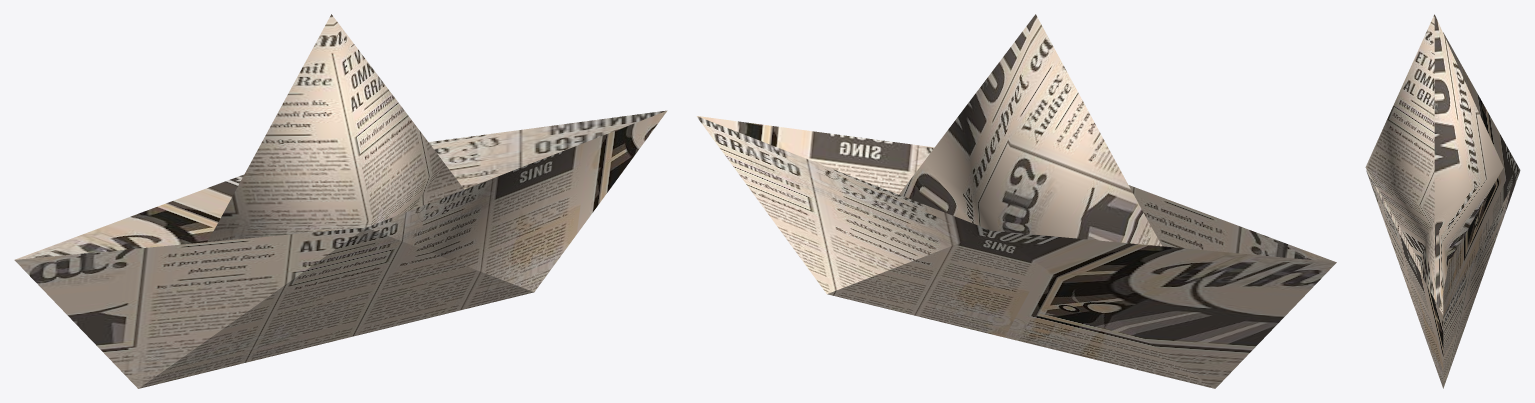
File: barco_papel.fbx
The picture shows the model from 3 angles, left to right: view 1: azimuth 30°, elevation 25°; view 2: azimuth 150°, elevation 25°; view 3: azimuth 270°, elevation 25°; orthographic projection. The views are drawn at different scales.
Parts seen in each view (by area): view 1: Plane002, Barco_Papel; view 2: Plane002, Barco_Papel; view 3: Barco_Papel, Plane002.
Boxes of the visible parts, x1,y1,x2,y2 form: Plane002: (14, 110, 667, 388); Barco_Papel: (207, 14, 463, 241); Plane002: (696, 116, 1336, 388); Barco_Papel: (899, 14, 1161, 246); Barco_Papel: (1365, 14, 1503, 308); Plane002: (1366, 32, 1520, 388).
Bounding box in the file's own units: 141 × 68.48 × 33.48.
1 material, 1 textured.
